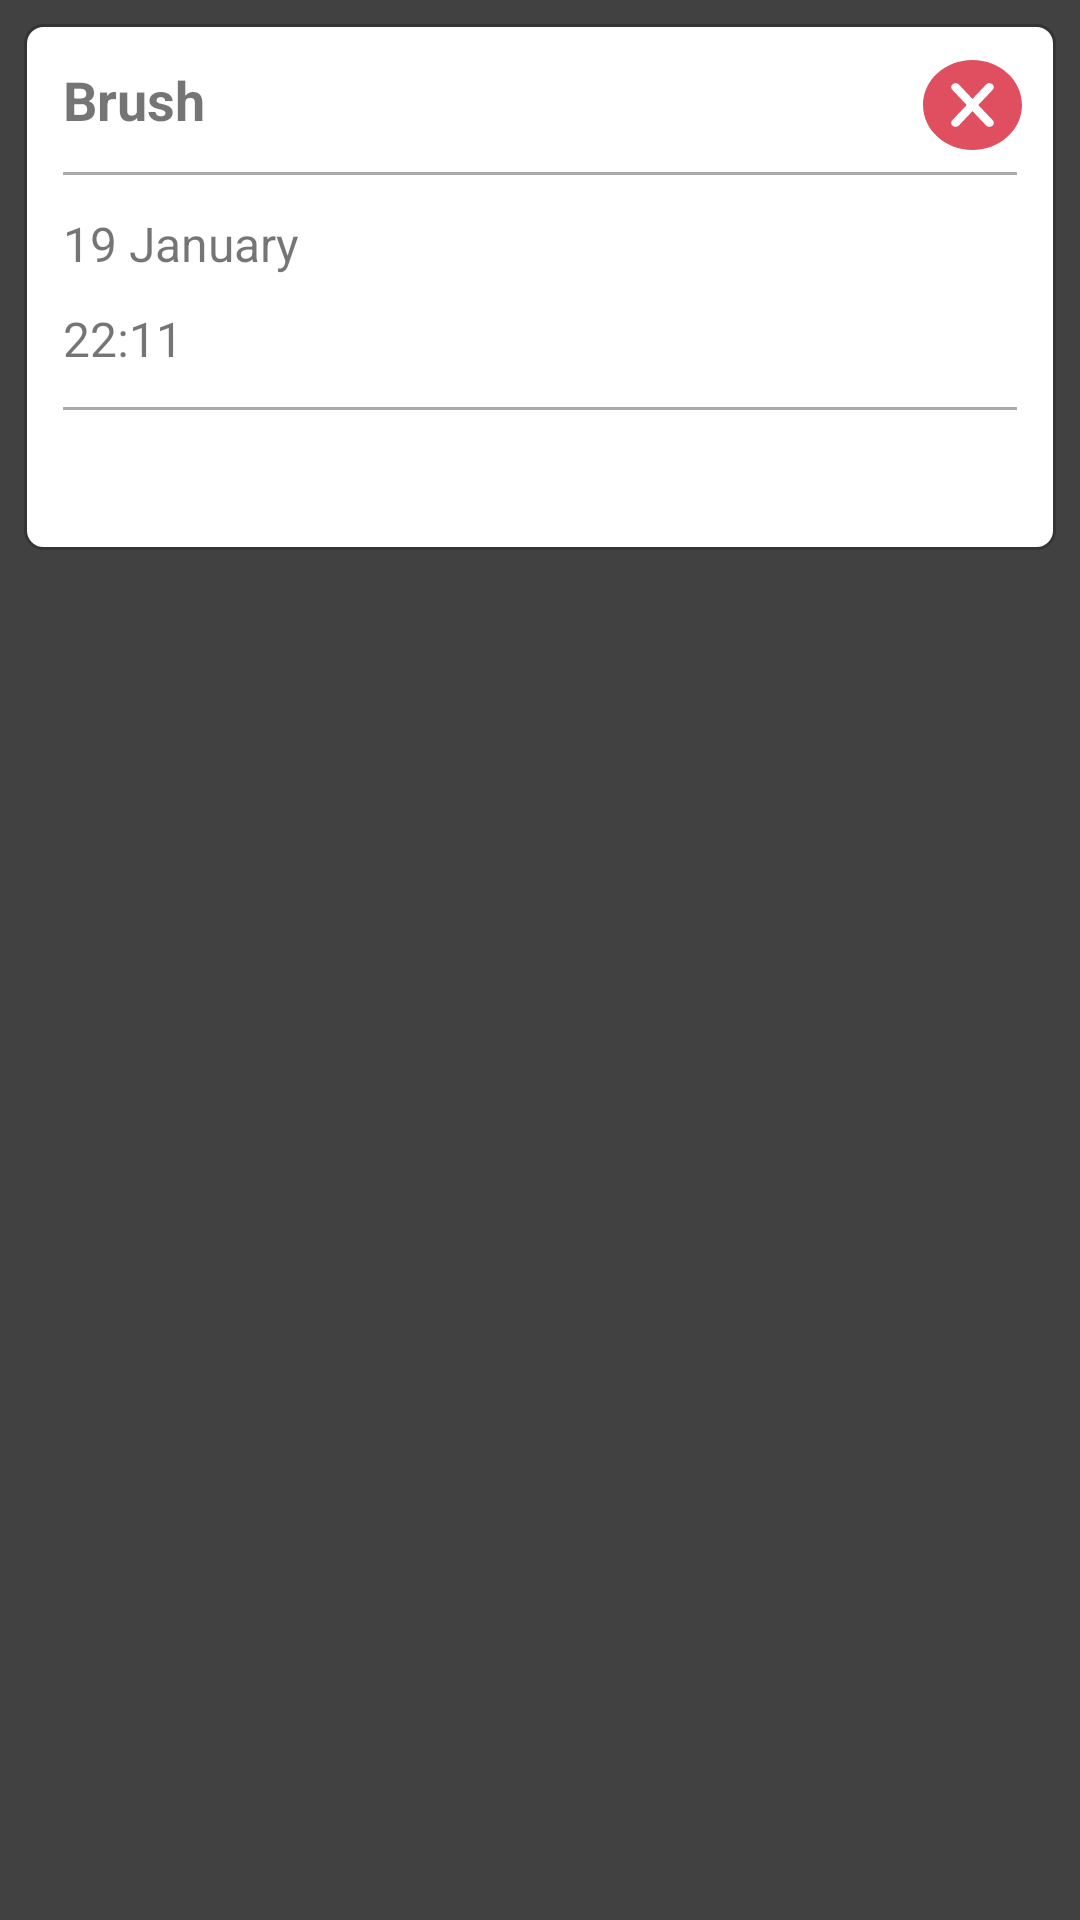

Locate icon controls on the screen. Image size 1080px×1920px, boxes as (x1, y1, x2, y2).
cancel: (923, 60, 1022, 150)
